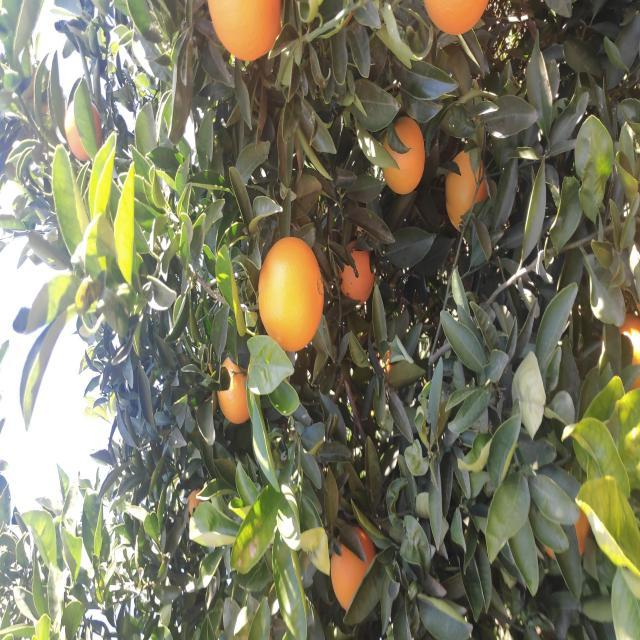Jeruk Sudah Matang: (290, 258, 406, 324), (577, 205, 640, 281), (30, 330, 113, 376), (412, 444, 494, 489), (447, 379, 523, 424), (477, 61, 549, 104), (217, 217, 280, 253), (606, 423, 640, 488), (339, 340, 397, 373)
